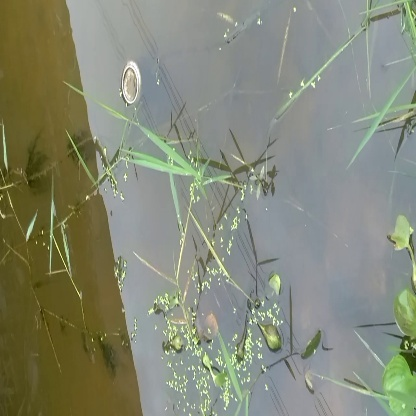bottle: (119, 55, 146, 114)
